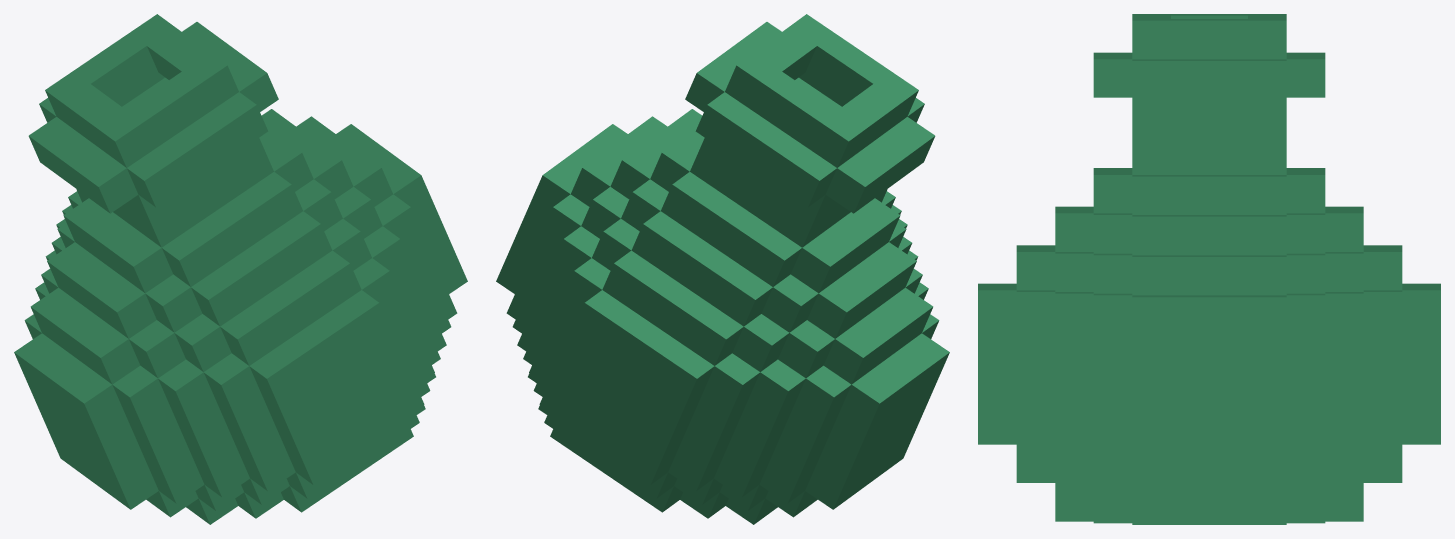
File: potion-a6e65fce.glb
3 renders of one model, left to right at view 1: azimuth 30°, elevation 25°; view 2: azimuth 150°, elevation 25°; view 3: azimuth 270°, elevation 25°, orthographic. The views are drawn at different scales.
Visible parts, largest first — view 1: potion.001; view 2: potion.001; view 3: potion.001.
Boxes of the visible parts, <box> form: potion.001: <box>14,14,467,524</box>; potion.001: <box>496,14,949,524</box>; potion.001: <box>978,14,1440,524</box>.
Bounding box in the file's own units: 1.26 × 1.43 × 1.2.
